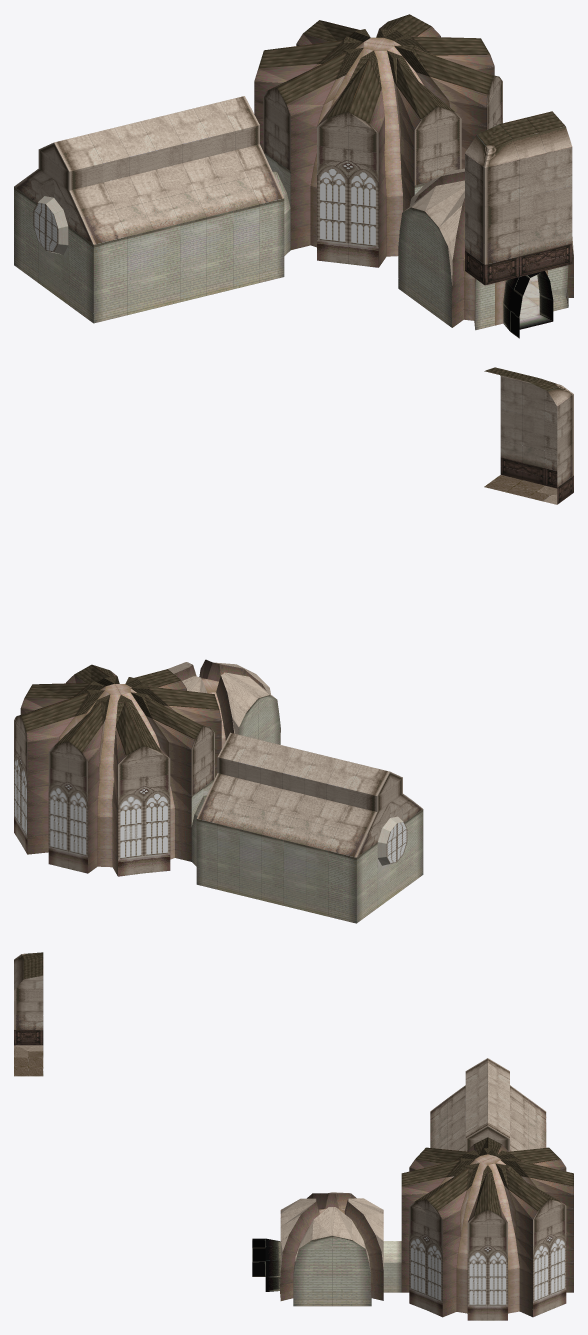
3 views of the same model, one above another, from view 1: azimuth 30°, elevation 25°; view 2: azimuth 150°, elevation 25°; view 3: azimuth 270°, elevation 25° (orthographic). The views are drawn at different scales.
Parts seen in each view (by area): view 1: T1L5M005_37, T1L5M005_49, T1L5M005_39, T1L5M005_41, T1L5M005_45, T1L5M005_65, T1L5M005_56, T1L5M005_76, T1L5M005_60, T1L5M005_58, T1L5M005_38, T1L5M005_63 (+29 smaller); view 2: T1L5M005_12, T1L5M005_10, T1L5M005_1, T1L5M005_19, T1L5M005_27, T1L5M005_21, T1L5M005_23, T1L5M005_3, T1L5M005_5, T1L5M005_15, T1L5M005_8, T1L5M005_88 (+27 smaller); view 3: T1L5M005_15, T1L5M005_75, T1L5M005_51, T1L5M005_49, T1L5M005_12, T1L5M005_78, T1L5M005_69, T1L5M005_77, T1L5M005_53, T1L5M005_35, T1L5M005_33, T1L5M005_16 (+23 smaller).
Boxes of the visible parts, left/top/right/bottom form: T1L5M005_37: left=45, top=128, right=153, bottom=244; T1L5M005_49: left=369, top=36, right=498, bottom=134; T1L5M005_39: left=114, top=115, right=206, bottom=229; T1L5M005_41: left=167, top=102, right=259, bottom=216; T1L5M005_45: left=277, top=52, right=368, bottom=208; T1L5M005_65: left=348, top=112, right=402, bottom=226; T1L5M005_56: left=93, top=230, right=153, bottom=323; T1L5M005_76: left=411, top=180, right=464, bottom=327; T1L5M005_60: left=206, top=204, right=259, bottom=295; T1L5M005_58: left=154, top=217, right=206, bottom=308; T1L5M005_38: left=45, top=220, right=93, bottom=323; T1L5M005_63: left=317, top=112, right=348, bottom=222; T1L5M005_12: left=17, top=692, right=105, bottom=838; T1L5M005_10: left=97, top=702, right=143, bottom=841; T1L5M005_1: left=306, top=842, right=377, bottom=923; T1L5M005_19: left=316, top=759, right=396, bottom=843; T1L5M005_27: left=144, top=696, right=202, bottom=826; T1L5M005_21: left=272, top=748, right=339, bottom=822; T1L5M005_23: left=227, top=737, right=294, bottom=811; T1L5M005_3: left=261, top=834, right=305, bottom=911; T1L5M005_5: left=217, top=824, right=261, bottom=900; T1L5M005_15: left=14, top=716, right=59, bottom=819; T1L5M005_8: left=126, top=703, right=170, bottom=838; T1L5M005_88: left=484, top=440, right=544, bottom=497; T1L5M005_15: left=509, top=1190, right=566, bottom=1286; T1L5M005_75: left=332, top=1220, right=383, bottom=1306; T1L5M005_51: left=438, top=1171, right=487, bottom=1286; T1L5M005_49: left=401, top=1152, right=487, bottom=1210; T1L5M005_12: left=506, top=1160, right=573, bottom=1262; T1L5M005_78: left=293, top=1220, right=332, bottom=1306; T1L5M005_69: left=409, top=1199, right=442, bottom=1286; T1L5M005_77: left=280, top=1193, right=352, bottom=1291; T1L5M005_53: left=467, top=1210, right=487, bottom=1290; T1L5M005_35: left=488, top=1210, right=507, bottom=1290; T1L5M005_33: left=488, top=1171, right=519, bottom=1283; T1L5M005_16: left=519, top=1273, right=566, bottom=1317.
Bounding box in the file's own units: 32.94 × 26 × 50.38.
